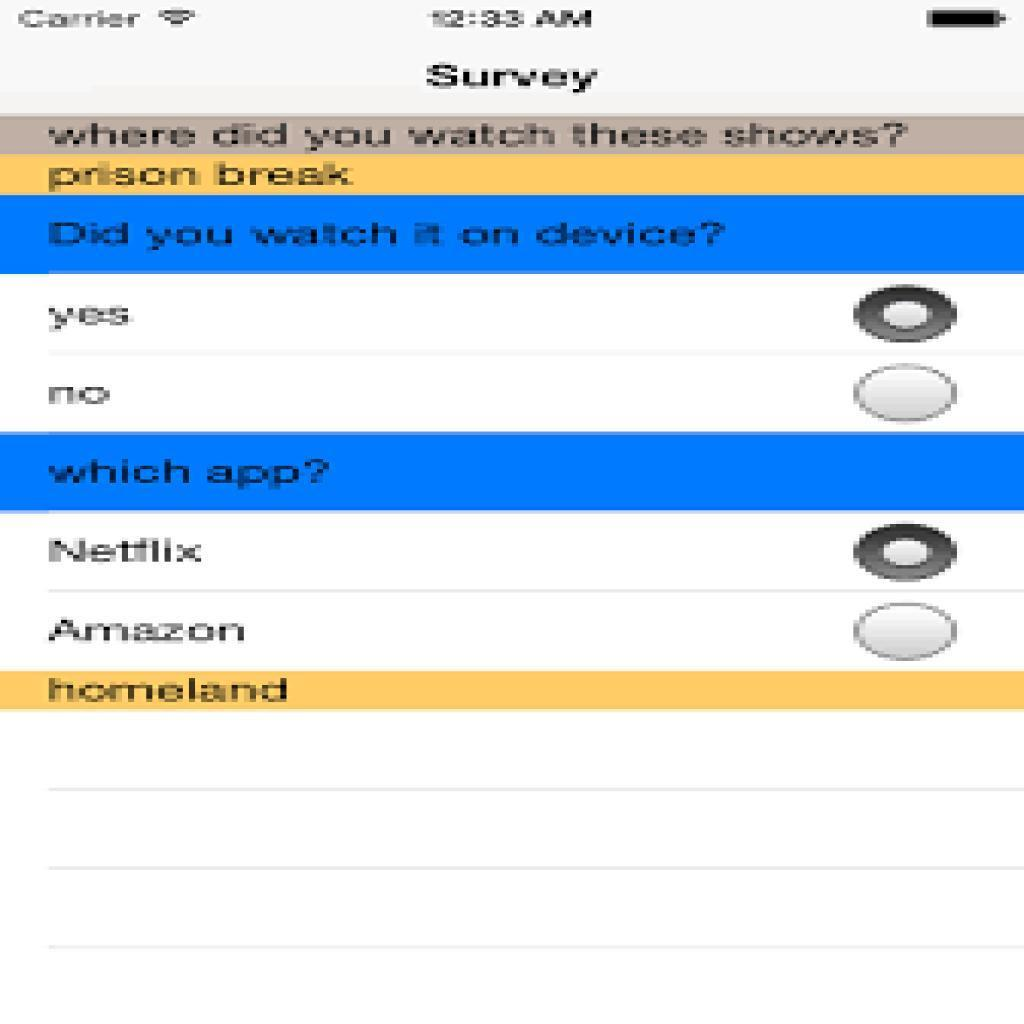radio: (848, 517, 968, 584), (853, 603, 965, 663), (852, 364, 958, 425), (851, 287, 962, 344)
